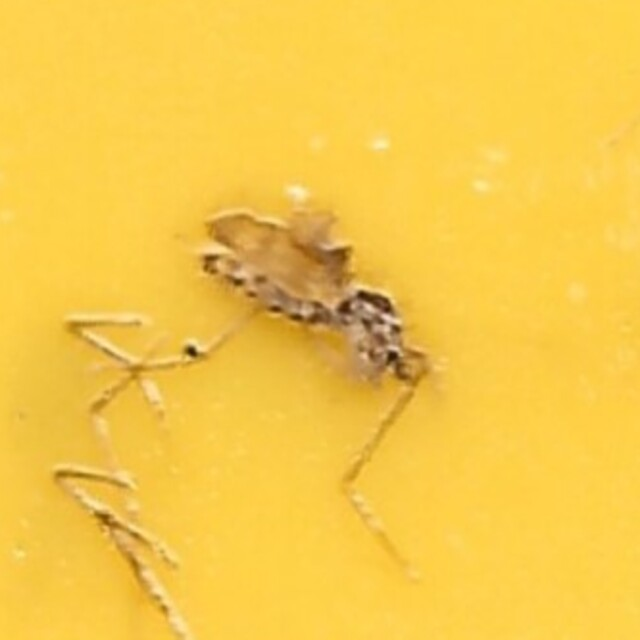Nematocera: (192, 229, 448, 411)
